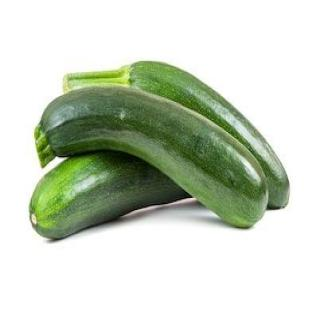Zucchini: (64, 62, 289, 207), (36, 87, 268, 227), (30, 152, 189, 238)
